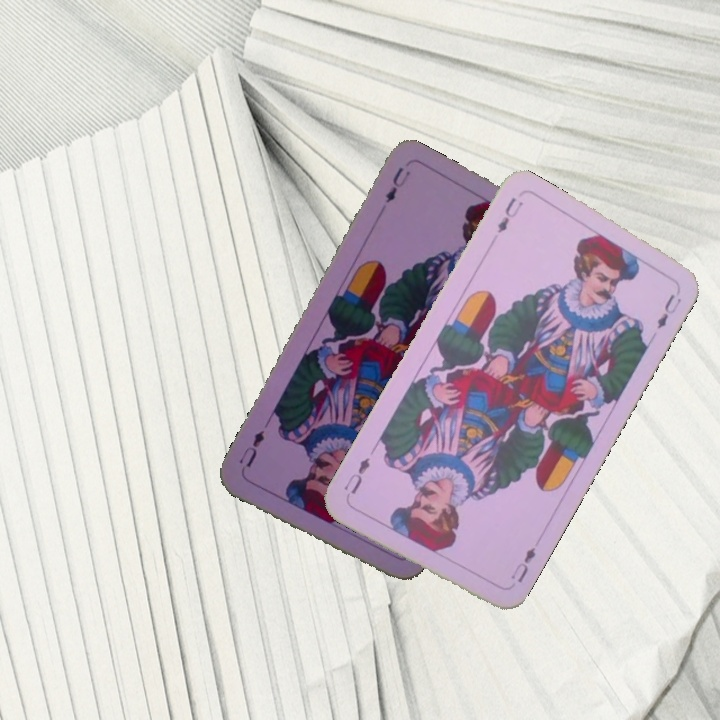EU: (493, 193, 527, 236), (381, 163, 414, 206), (506, 543, 539, 586)
